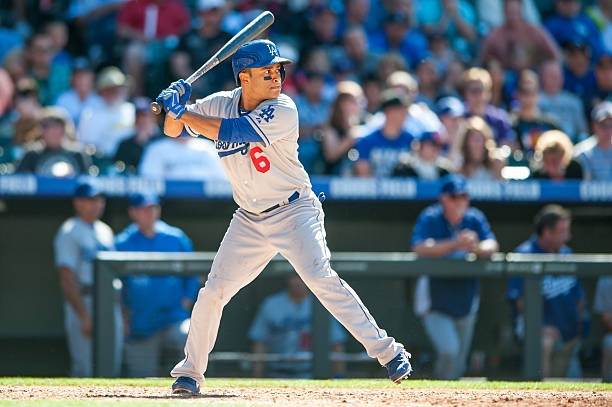bita: (155, 10, 275, 111)
